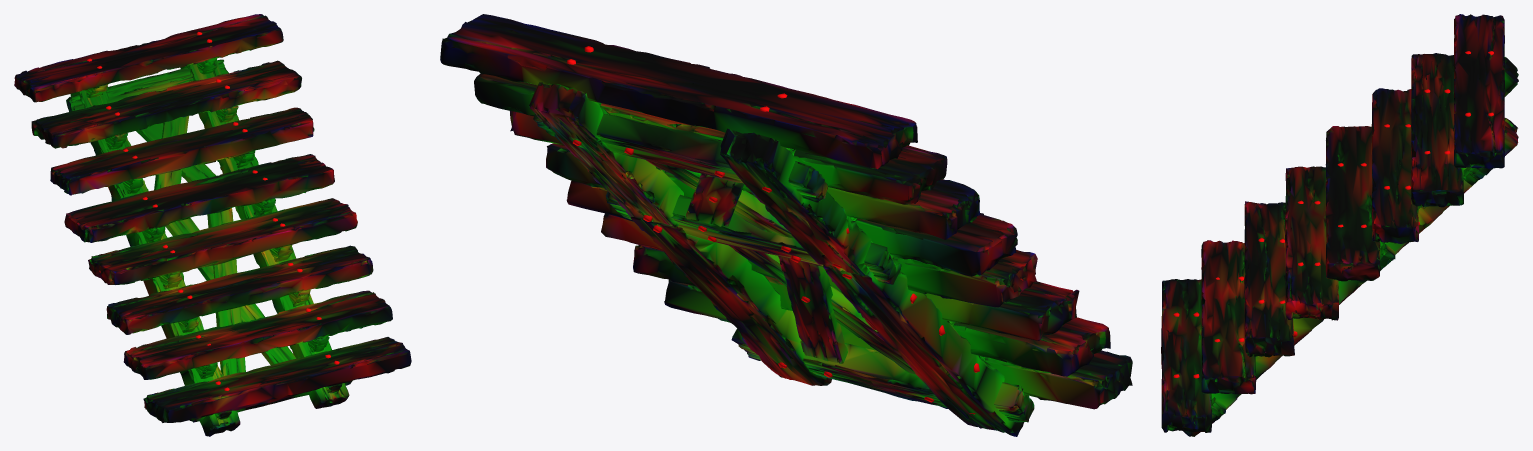
The model's file is SM_Wood_Stairs.fbx.
The picture shows the model from 3 angles, left to right: view 1: azimuth 30°, elevation 25°; view 2: azimuth 150°, elevation 25°; view 3: azimuth 270°, elevation 25°; orthographic projection. The views are drawn at different scales.
Parts seen in each view (by area): view 1: SM_Wood_Stairs_LOD0; view 2: SM_Wood_Stairs_LOD0; view 3: SM_Wood_Stairs_LOD0.
Part boxes in pixels (bbox=[...]): SM_Wood_Stairs_LOD0: bbox=[14, 14, 411, 436]; SM_Wood_Stairs_LOD0: bbox=[440, 14, 1132, 436]; SM_Wood_Stairs_LOD0: bbox=[1161, 14, 1518, 436].
Size of the model in its own units: 314 by 331 by 327.
